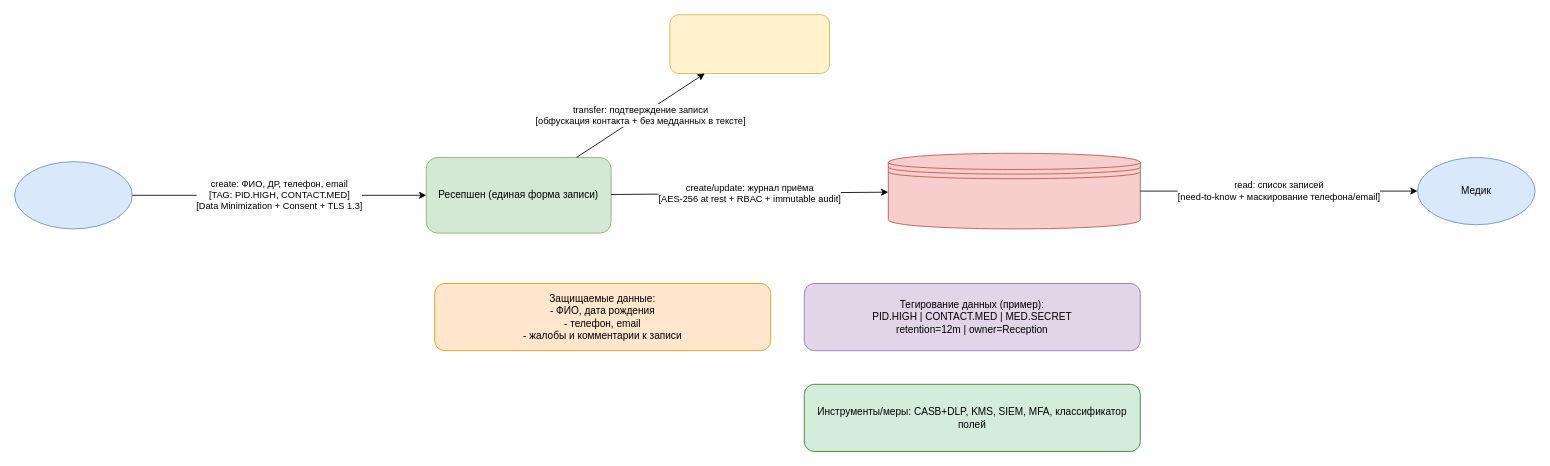
This 1550x466 diagram has some shape labels left out. Each missing label, with the centre of its shape:
Пациент: the point at 73,195
Реестр записей (защищенное хранилище): the point at 1013,190
Уведомления (шаблоны): the point at 749,44
